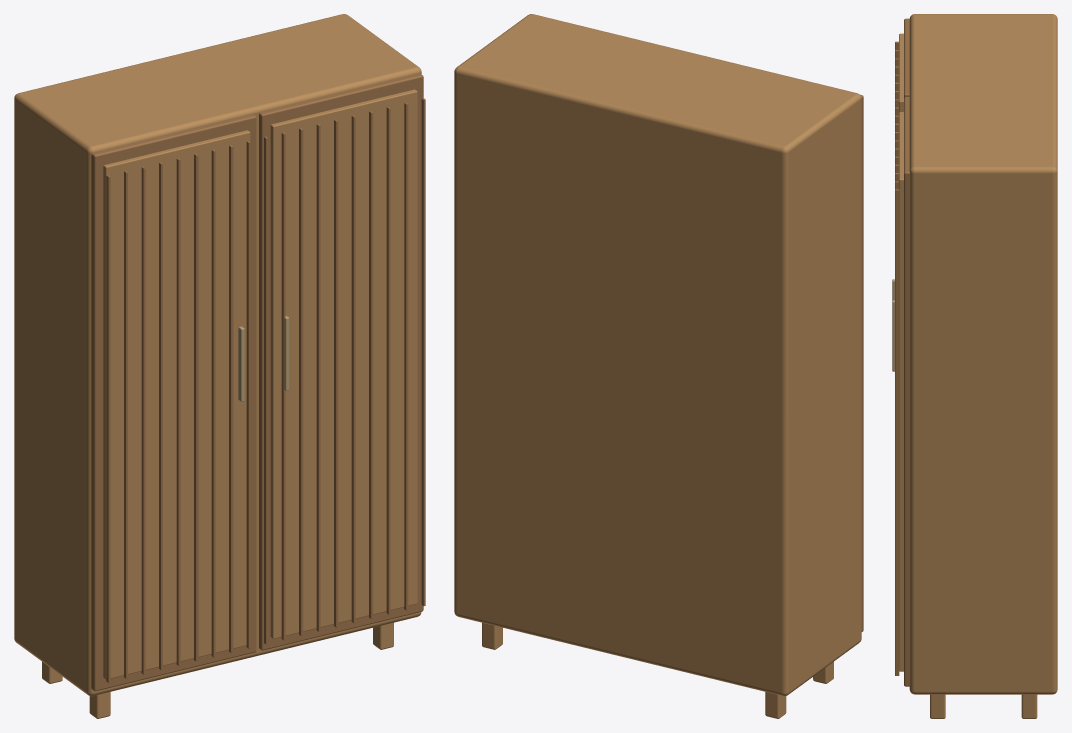
3 renders of one model, left to right at view 1: azimuth 30°, elevation 25°; view 2: azimuth 150°, elevation 25°; view 3: azimuth 270°, elevation 25°, orthographic. The views are drawn at different scales.
Parts seen in each view (by area): view 1: Oak door panel (×2), Carcass, Fine vertical oak fluting (×19), Recessed door (×2); view 2: Carcass, Recessed door; view 3: Carcass, Recessed door (×2), Oak door panel (×2), Fine vertical oak fluting, Tapered leg (×2).
Boxes of the visible parts, x1,y1,x2,y2 form: Oak door panel (×2): (103,89,417,679); Carcass: (14,14,421,696); Fine vertical oak fluting (×19): (106,98,425,682); Recessed door (×2): (91,73,423,691); Carcass: (454,14,861,696); Recessed door: (860,95,863,631); Carcass: (909,14,1057,694); Recessed door (×2): (904,18,910,686); Oak door panel (×2): (899,33,903,671); Fine vertical oak fluting: (895,189,899,675); Tapered leg (×2): (930,694,1037,718).
Bounding box in the file's own units: 1.05 × 1.75 × 0.469.
